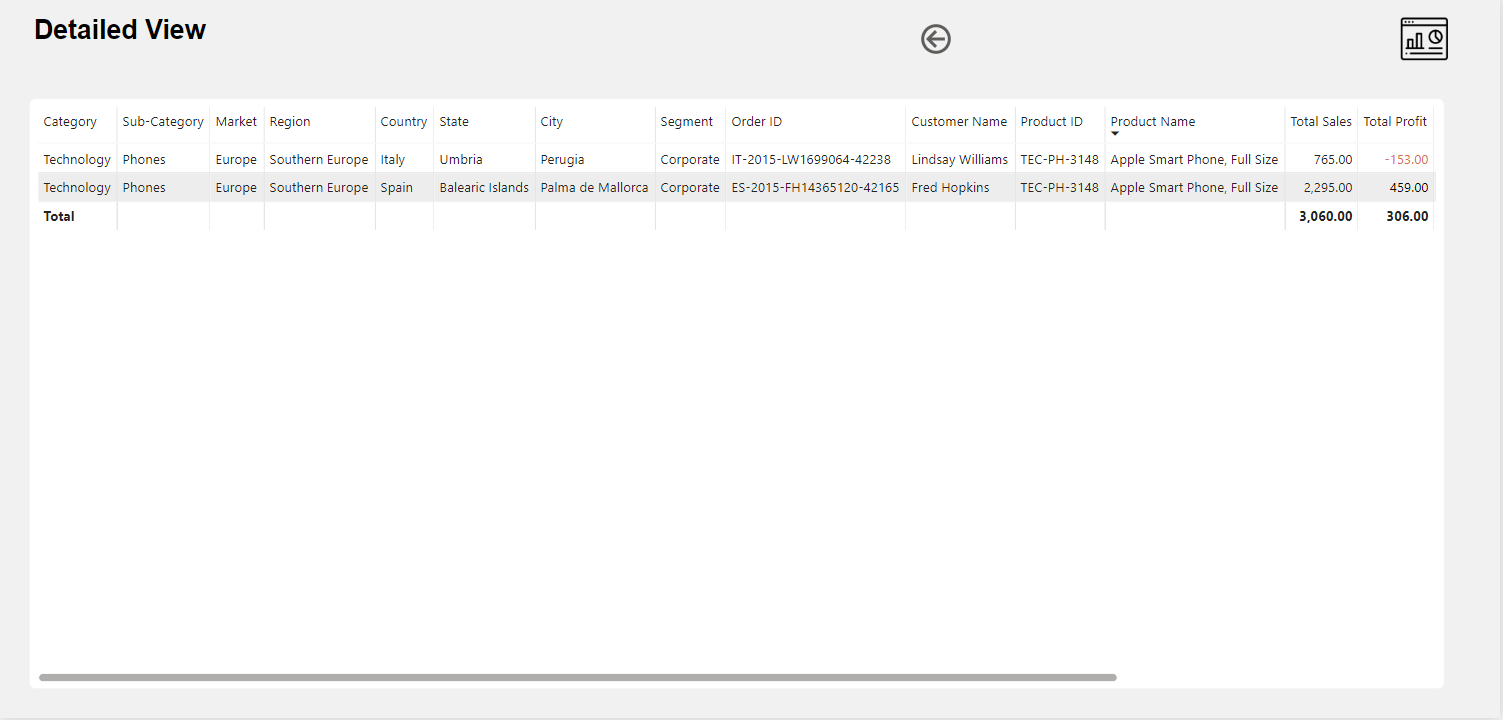

The dashboard page shown, as its layout file describes it:
{"tool":"powerbi","page":{"name":"Detailed View","canvas":[1500,720],"ordinal":2},"visuals":[{"type":"textbox","box":[28.6,12.3,530.1,58.6],"z":0},{"type":"image","box":[1388.5,12.3,70.9,57.2],"z":1000},{"type":"tableEx","fields":{"Values":["Orders.Category","Orders.Sub-Category","Orders.Market","Orders.Region","Orders.Country","Orders.State","Orders.City","Orders.Segment","Orders.Order ID","Orders.Customer Name","Orders.Product ID","Orders.Product Name"]},"box":[28.6,99.5,1415.8,591.4],"z":2000},{"type":"actionButton","box":[915.7,21.8,99.5,39.5],"z":3000}]}

Visuals, with their boxes in screenshot pixels (x1, y1, x2, y2), scaled from the page's 1500x720 canvas onto the 1503x720 screenshot:
textbox: locate(29, 12, 560, 71)
image: locate(1391, 12, 1462, 70)
tableEx - Orders.Category x Orders.Sub-Category: locate(29, 100, 1447, 691)
actionButton: locate(918, 22, 1017, 61)
